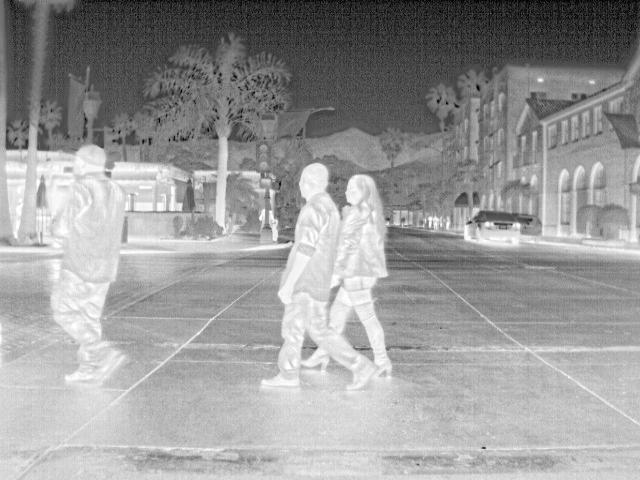car: (462, 210, 522, 247), (509, 213, 546, 243)
person: (259, 161, 382, 389), (57, 141, 134, 387), (328, 174, 392, 375), (444, 214, 454, 232), (432, 214, 439, 232), (426, 214, 433, 228)
